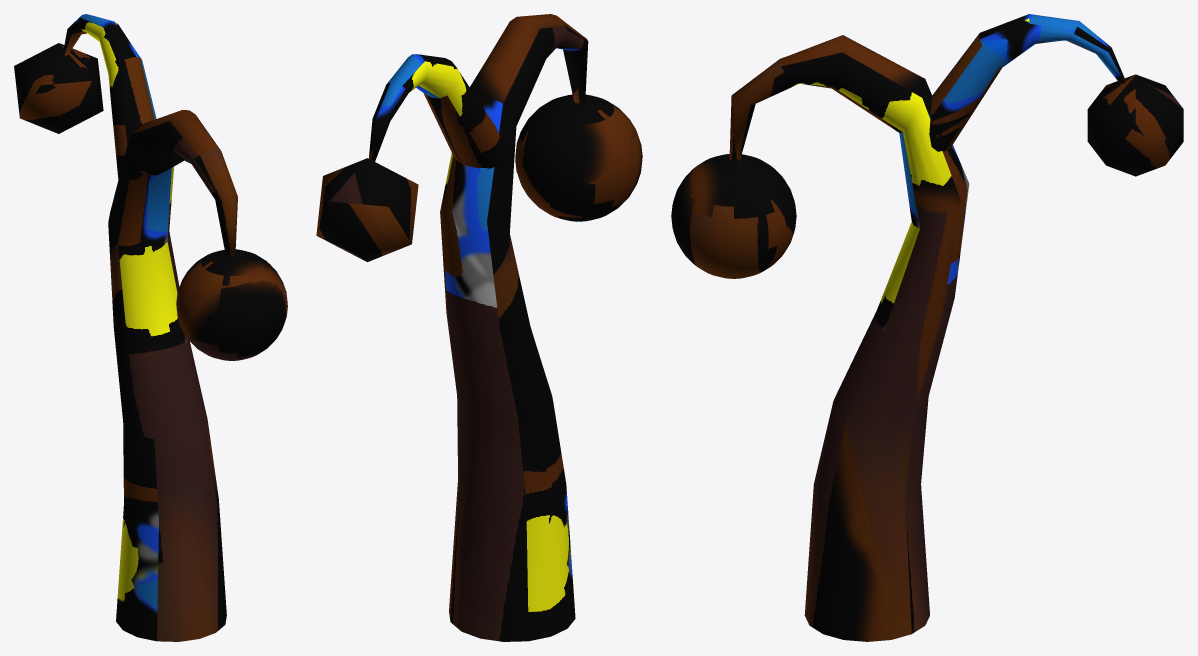
File: lampara3.obj
The picture shows the model from 3 angles, left to right: view 1: azimuth 30°, elevation 25°; view 2: azimuth 150°, elevation 25°; view 3: azimuth 270°, elevation 25°; orthographic projection. The views are drawn at different scales.
Visible parts, largest first — view 1: Cylinder, Sphere, Icosphere; view 2: Cylinder, Sphere, Icosphere; view 3: Cylinder, Sphere, Icosphere.
Boxes of the visible parts, x1,y1,x2,y2 form: Cylinder: (63,14,237,641); Sphere: (176,249,287,360); Icosphere: (14,43,103,133); Cylinder: (369,14,588,641); Sphere: (515,94,642,221); Icosphere: (316,158,418,261); Cylinder: (729,14,1125,641); Sphere: (671,154,796,278); Icosphere: (1087,74,1183,176).
Size of the model in its own units: 2.02 by 10.68 by 8.17.
